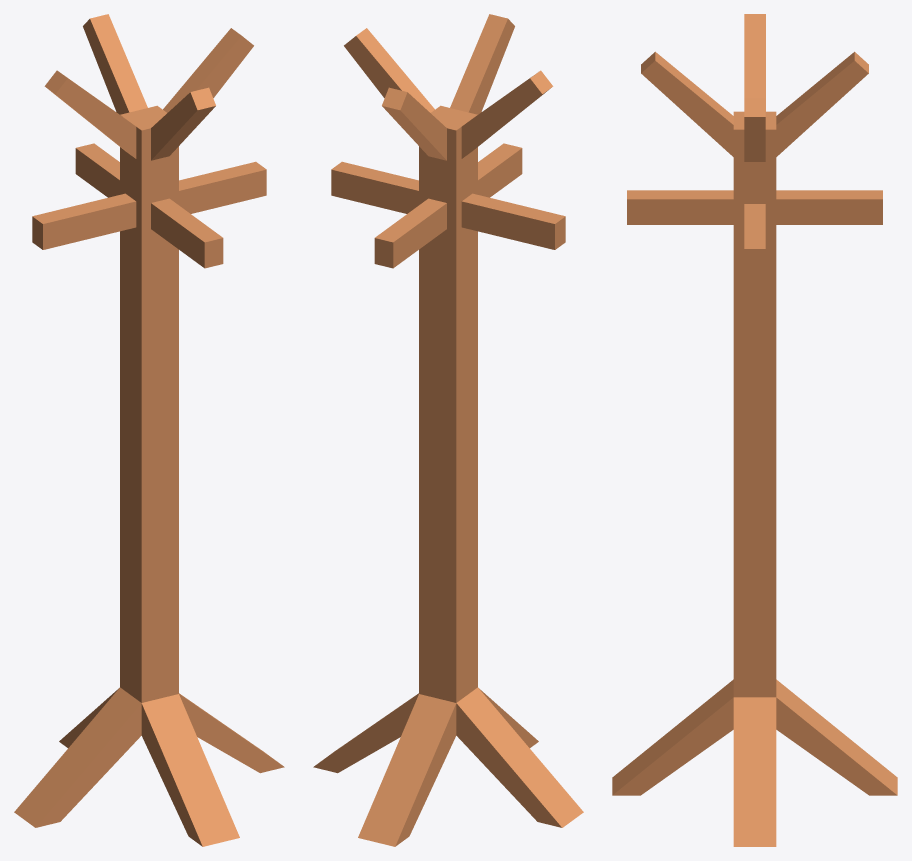
File: Coat Rack Standing.glb
3 views of the same model, side by side, from view 1: azimuth 30°, elevation 25°; view 2: azimuth 150°, elevation 25°; view 3: azimuth 270°, elevation 25° (orthographic).
Visible parts, largest first — view 1: coatRackStanding(Clone); view 2: coatRackStanding(Clone); view 3: coatRackStanding(Clone).
Part boxes in pixels (<box>): coatRackStanding(Clone): <box>14,14,284,846</box>; coatRackStanding(Clone): <box>313,14,583,846</box>; coatRackStanding(Clone): <box>612,14,897,846</box>.
Size of the model in its own units: 0.2728 by 0.77 by 0.2728.
